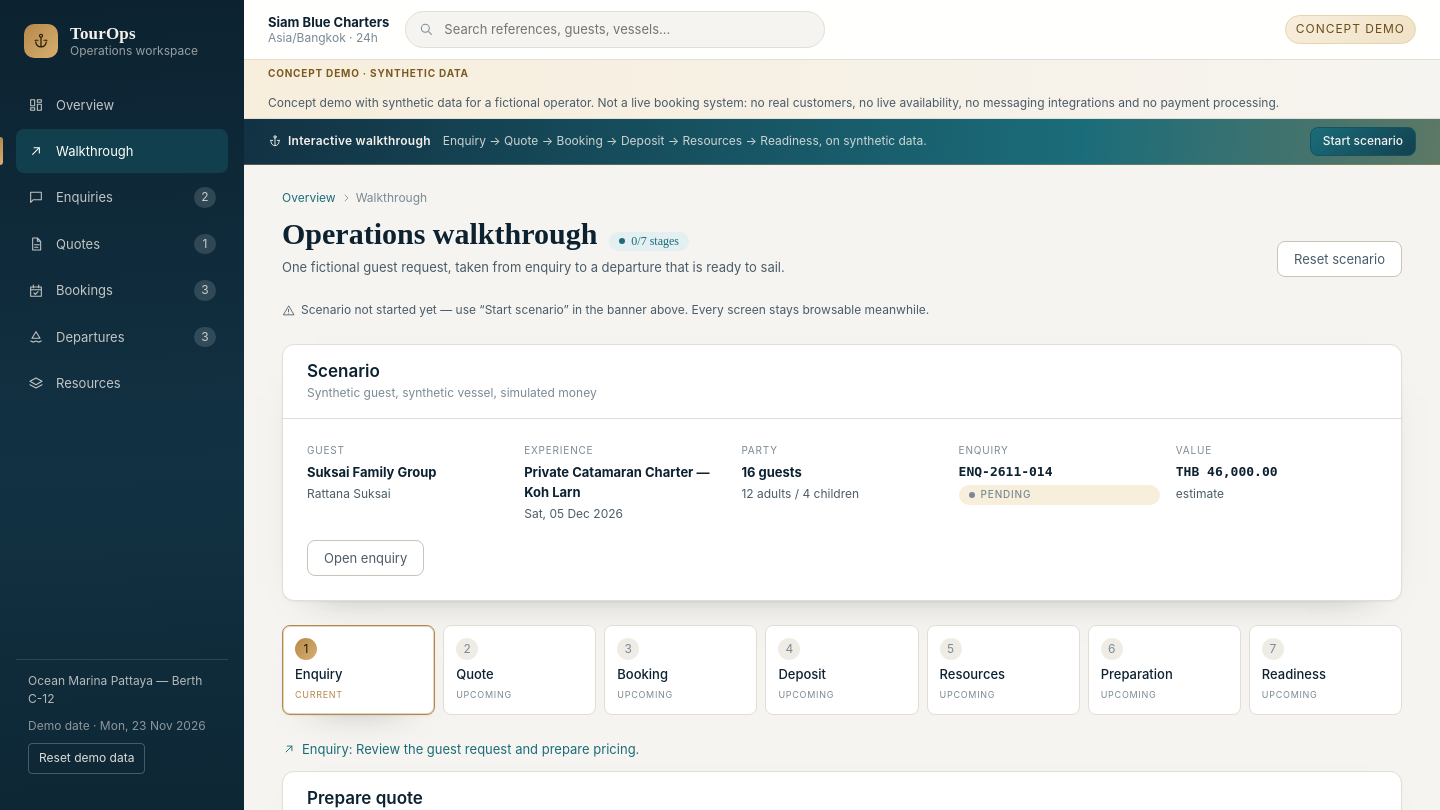
it: operations walkthrough journey › keeps TO-01B screens working and reflects walkthrough state
The image size is (1440, 810).
Step 1. Click the button "Start scenario" → (1363, 141), box top-left (1310, 127), bottom-right (1416, 156)
(page scrolled)
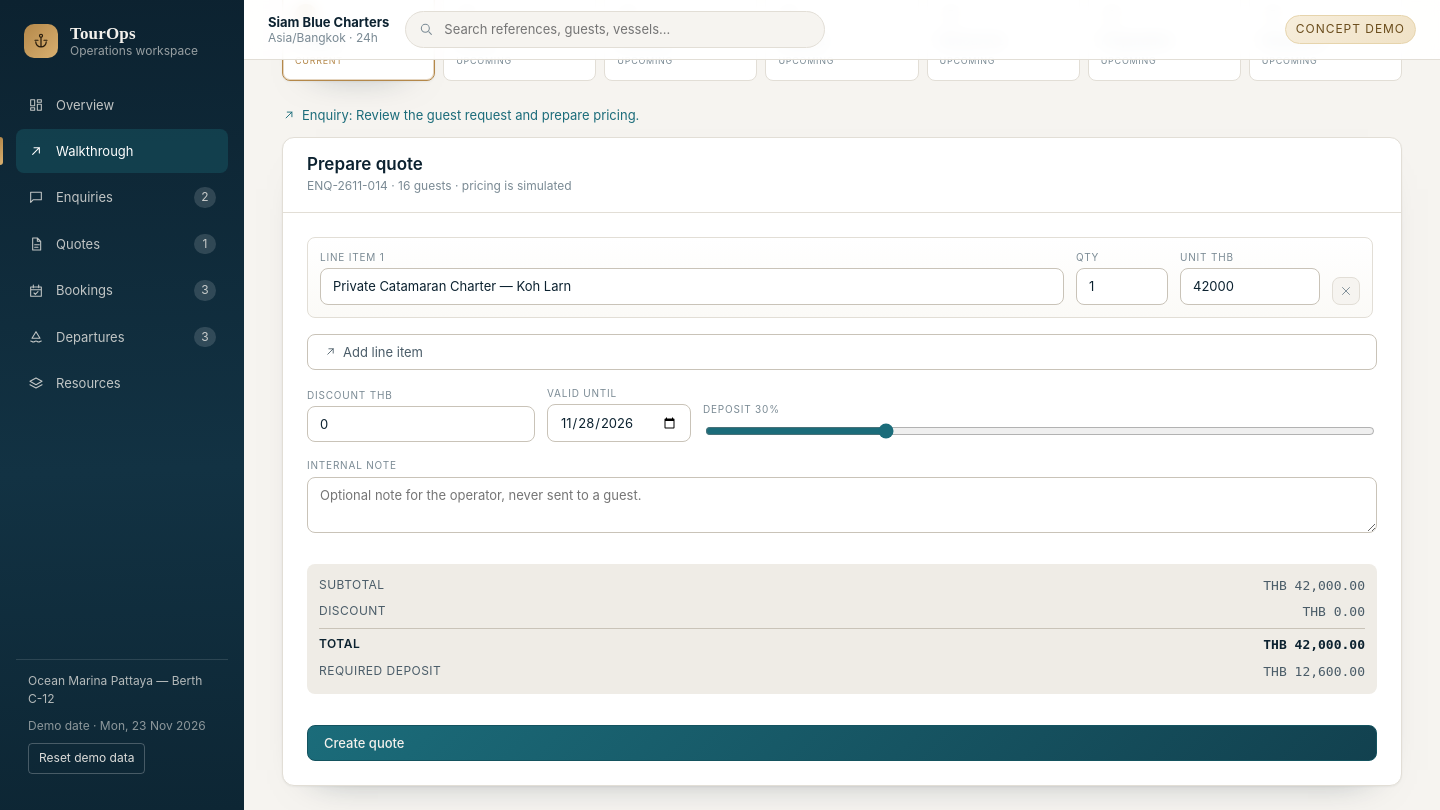
Step 2. Click the button "Create quote" → (364, 743), box top-left (307, 725), bottom-right (1377, 761)
(page scrolled)
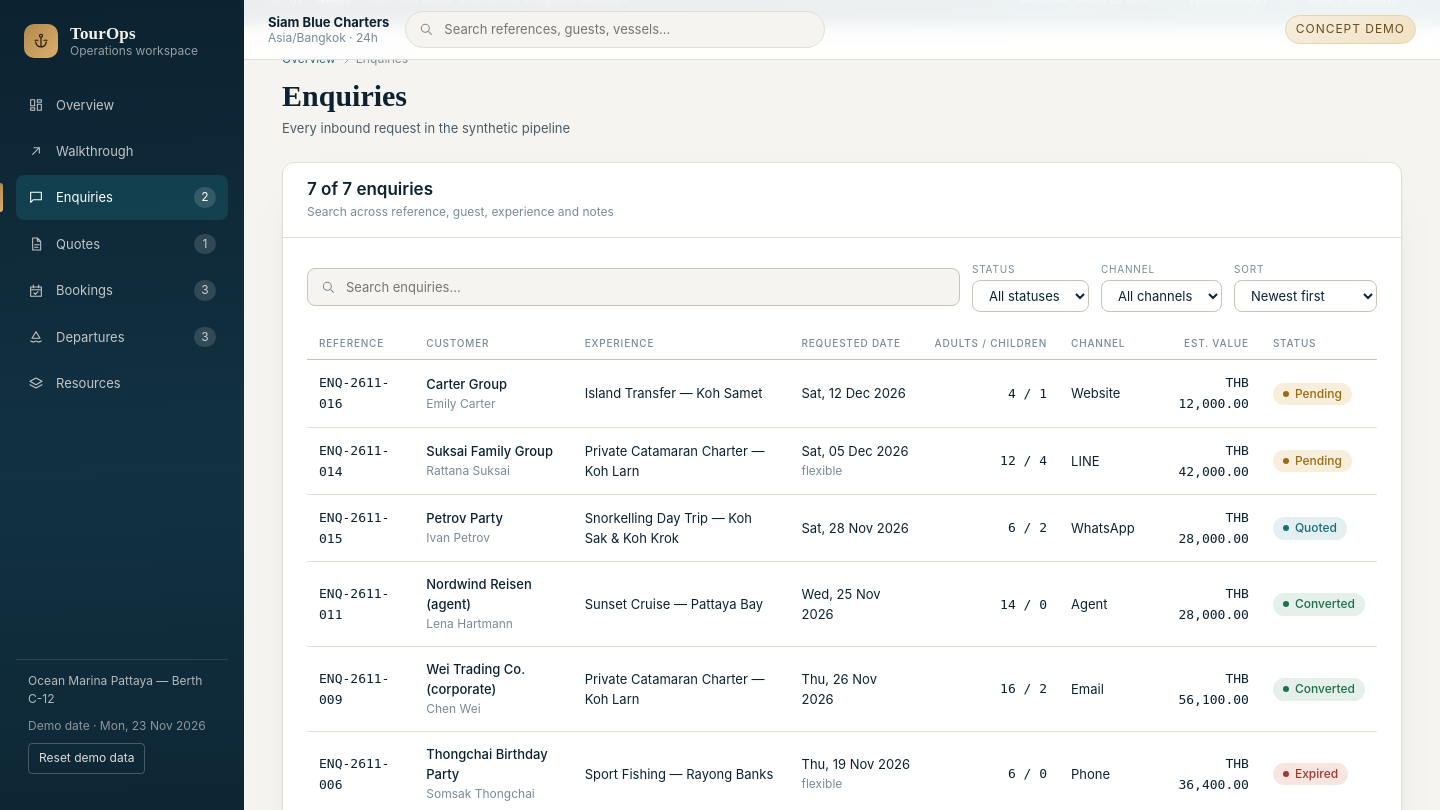
Step 3. Type "Suksai" into the search field labelled "Search enquiries…" → (646, 287), box top-left (344, 276), bottom-right (947, 298)
(page scrolled)
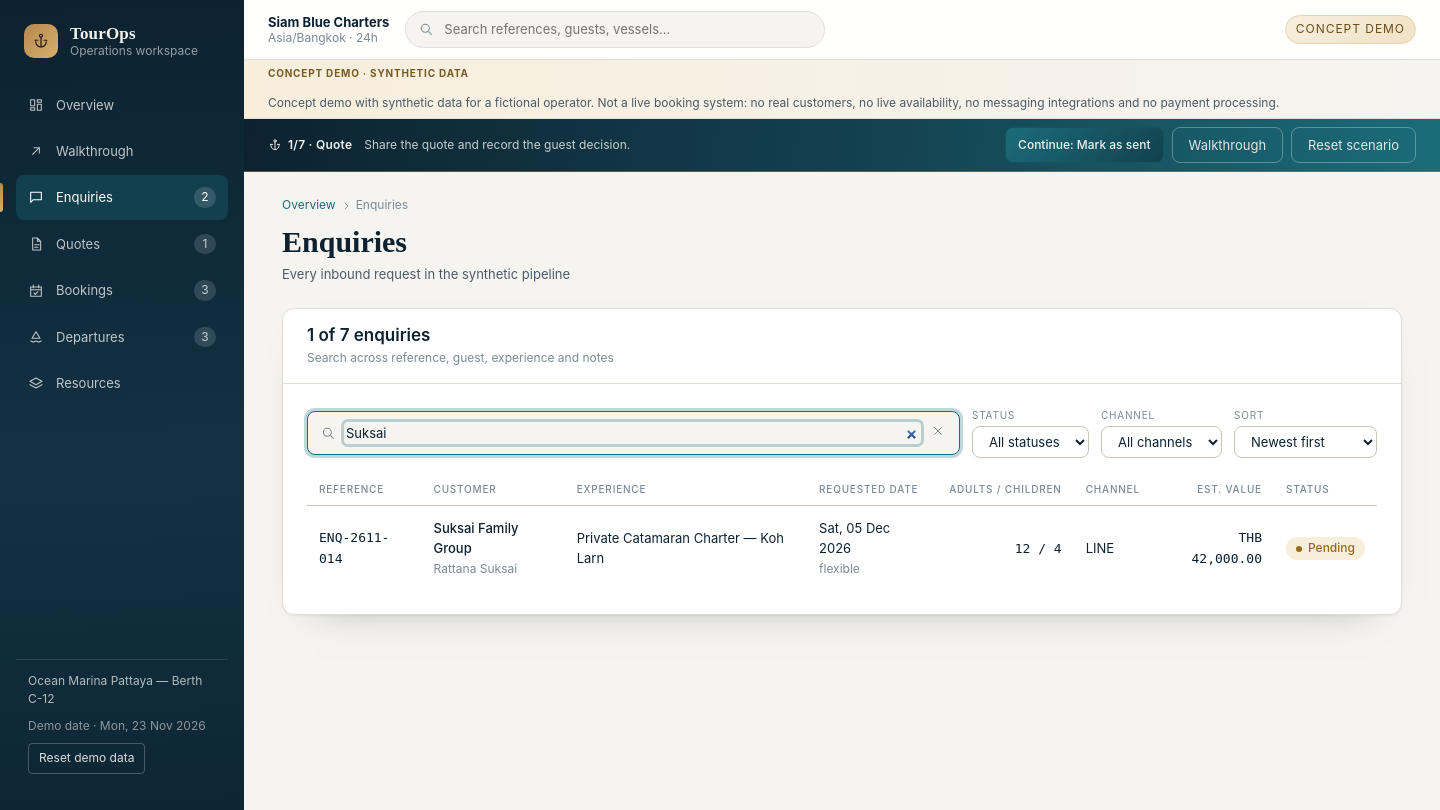
Step 4. Click the text "ENQ-2611-014" → (354, 538), box top-left (319, 530), bottom-right (390, 566)
(page scrolled)
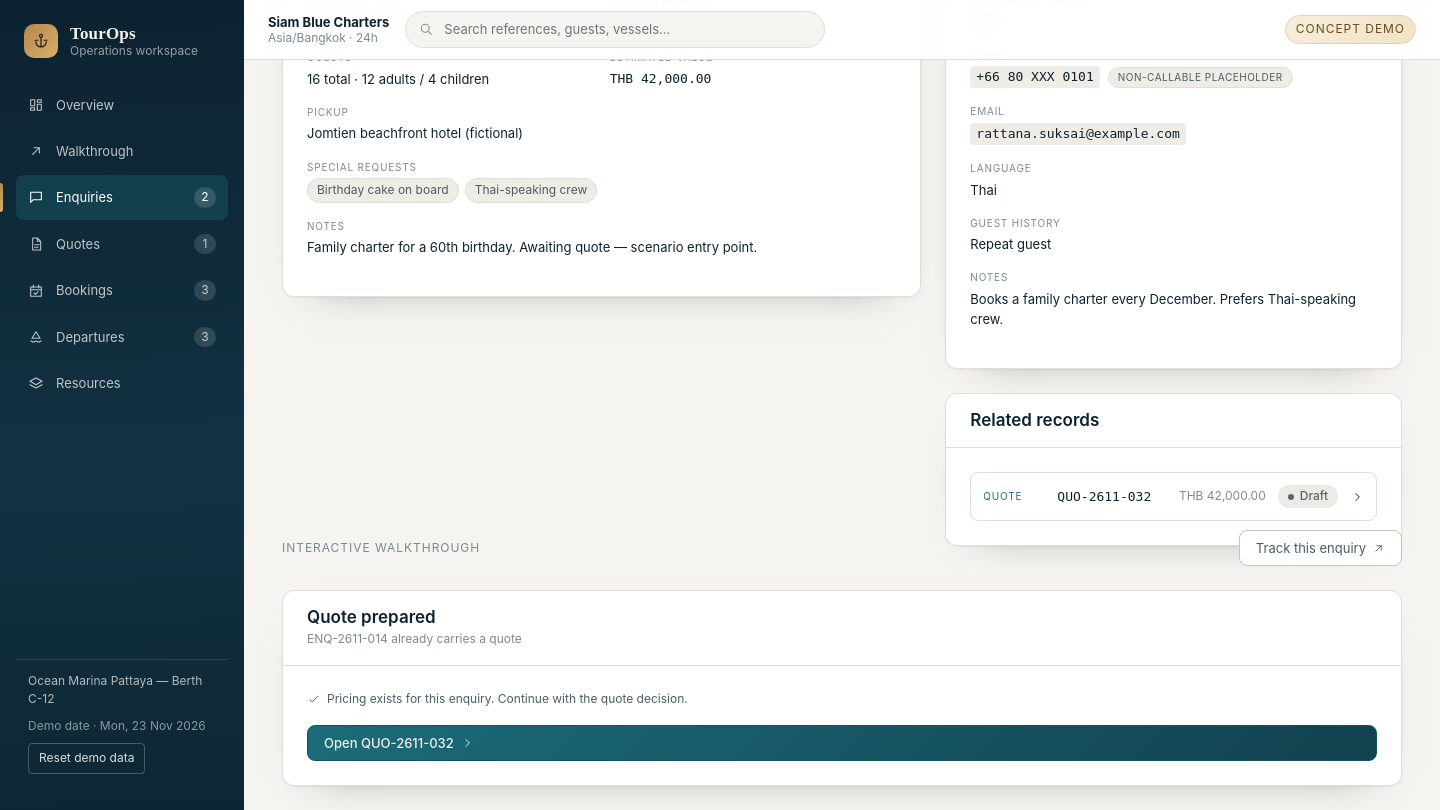
Result: the heading "Quote prepared" is shown at top-left (307, 607), bottom-right (436, 627)
